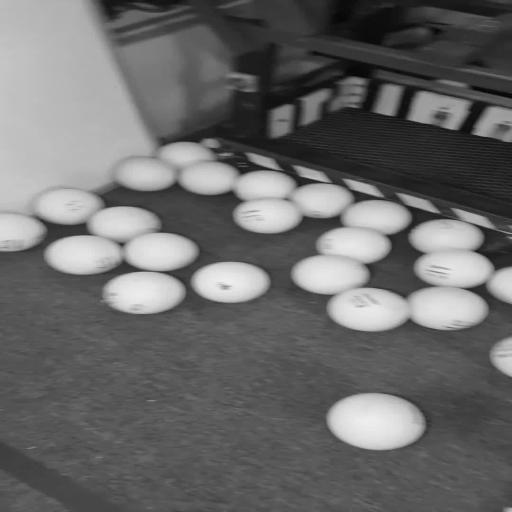fuel: (327, 393, 426, 450), (327, 287, 409, 332), (407, 286, 488, 331), (102, 271, 186, 314), (191, 262, 271, 303), (414, 249, 494, 289), (44, 235, 122, 275), (292, 255, 369, 295), (124, 232, 199, 272), (86, 206, 161, 244), (316, 227, 392, 264), (34, 188, 105, 225), (408, 219, 484, 253), (341, 200, 412, 235), (233, 198, 302, 234), (291, 183, 354, 218), (178, 161, 239, 195), (116, 157, 176, 191), (234, 170, 297, 201), (0, 213, 46, 251), (157, 142, 216, 170), (486, 266, 512, 304), (489, 336, 512, 377)
